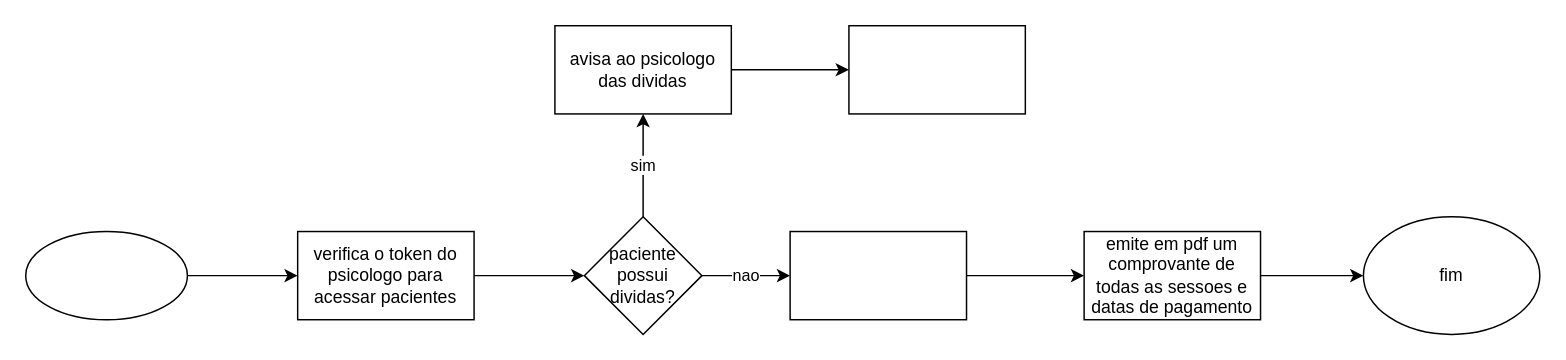
Some shapes in this 1566 by 360 pixel diagram are drawn without their labels. The centre of each missing label's shape, as x and y in pixels:
"inicio" goes at (105,275).
"lista em pdf todos os dias não pagos e permite download/impressao" goes at (936,69).
"lista todas as sessoes realizadas" goes at (878,275).
